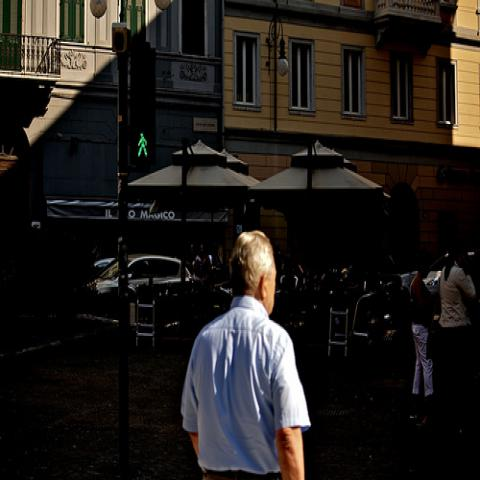car: (83, 254, 204, 327)
